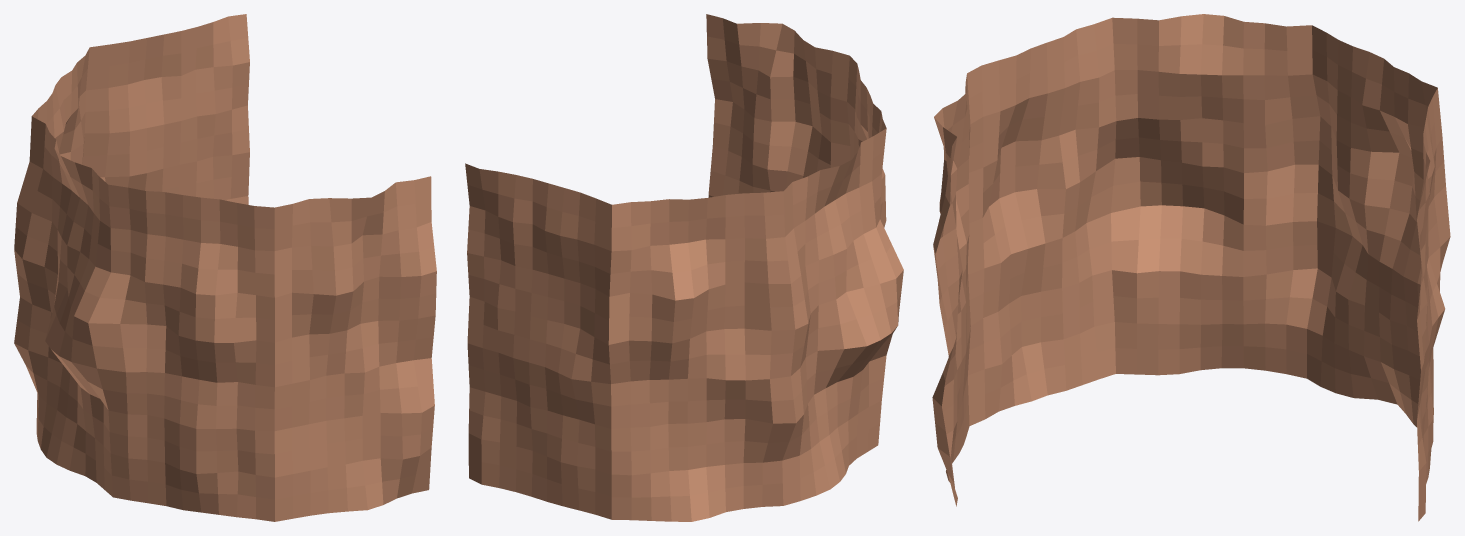
Rendered from env_bg_v002.fbx.
3 renders of one model, left to right at view 1: azimuth 30°, elevation 25°; view 2: azimuth 150°, elevation 25°; view 3: azimuth 270°, elevation 25°, orthographic. The views are drawn at different scales.
Visible parts, largest first — view 1: Cylinder; view 2: Cylinder; view 3: Cylinder.
Boxes of the visible parts, box(x1,y1,x2,y2) form: Cylinder: box(14, 14, 436, 521); Cylinder: box(465, 14, 903, 521); Cylinder: box(932, 14, 1450, 521).
Bounding box in the file's own units: 7400 × 7331 × 9726.
